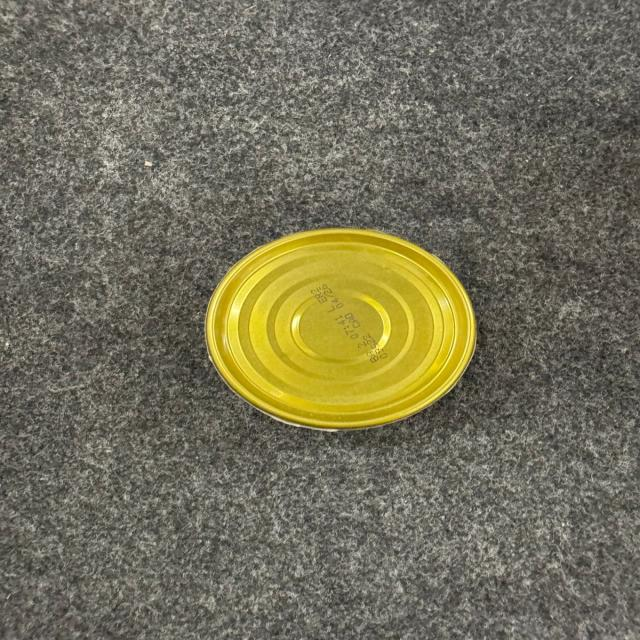Atun Mazatun Agua Sin Soya 130grs: (205, 227, 478, 430)
